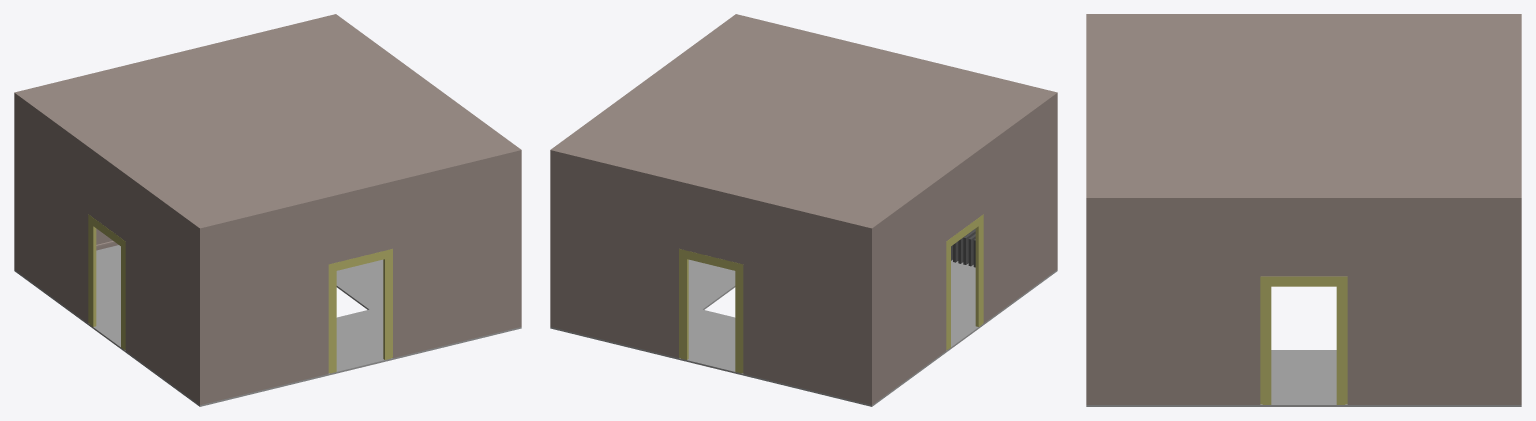
File: Room45_UpperLanding.fbx
3 renders of one model, left to right at view 1: azimuth 30°, elevation 25°; view 2: azimuth 150°, elevation 25°; view 3: azimuth 270°, elevation 25°, orthographic. The views are drawn at different scales.
Parts seen in each view (by area): view 1: Roof, WallSlicedPosZ, WallSlicedPosX, Floor1, Floor3, DoorFramePosZ, Floor2, DoorFramePosX, WallSlicedNegZ; view 2: Roof, WallSlicedNegZ, WallSlicedPosX, Floor4, Floor1, DoorFrameNegZ, Floor2, DoorFramePosX, heater, WallSlicedPosZ; view 3: Roof, WallSlicedNegX, Floor2, DoorFrameNegX, WallSlicedPosZ, WallSlicedNegZ, WallSlicedPosX.
Boxes of the visible parts, <box> form: Roof: <box>16,15,519,227</box>; WallSlicedPosZ: <box>198,149,521,405</box>; WallSlicedPosX: <box>14,92,202,404</box>; Floor1: <box>14,247,296,406</box>; Floor3: <box>296,309,425,383</box>; DoorFramePosZ: <box>328,249,392,373</box>; Floor2: <box>336,259,521,351</box>; DoorFramePosX: <box>88,214,125,349</box>; WallSlicedNegZ: <box>14,14,336,269</box>; Roof: <box>552,15,1055,227</box>; WallSlicedNegZ: <box>550,149,872,404</box>; WallSlicedPosX: <box>869,93,1056,404</box>; Floor4: <box>646,309,775,383</box>; Floor1: <box>775,260,1057,406</box>; DoorFrameNegZ: <box>679,249,743,373</box>; Floor2: <box>550,259,735,351</box>; DoorFramePosX: <box>946,214,983,349</box>; heater: <box>951,228,975,267</box>; WallSlicedPosZ: <box>736,14,1057,269</box>; Roof: <box>1088,14,1519,197</box>; WallSlicedNegX: <box>1086,197,1521,404</box>; Floor2: <box>1086,350,1521,406</box>; DoorFrameNegX: <box>1260,276,1347,404</box>; WallSlicedPosZ: <box>1086,14,1089,404</box>; WallSlicedNegZ: <box>1518,14,1521,404</box>; WallSlicedPosX: <box>1088,14,1521,14</box>.
Bounding box in the file's own units: 800 × 424 × 800.
